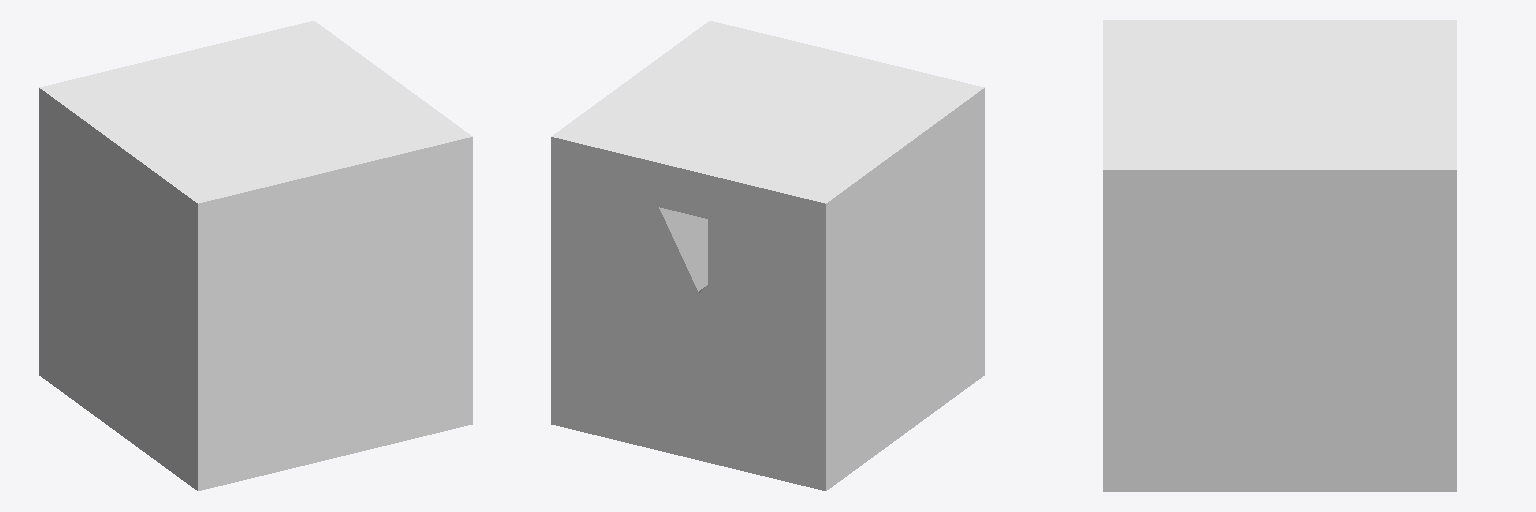
URDF robot description (Key_cube_bottle):
<?xml version="1.0" ?>
<robot name="Key_cube_bottle">
  <link name="baseLink">
    <contact>
    	<friction_anchor/>
    	   <lateral_friction value="1.0"/>
    </contact>
    <inertial>
      <origin rpy="0 0 0" xyz="0 0 0"/>
       <!-- mass controls penetration -->
       <mass value=".5"/>
       <inertia ixx="1e-4" ixy="0" ixz="0" iyy="1e-4" iyz="0" izz="1e-4"/>
    </inertial>
    <visual>
      <origin rpy="0 0 0" xyz="0 0 0"/>
      <geometry>
        <mesh filename="Key_cube_bottle.obj"/>
      </geometry>
       <material name="white">
        <color rgba="1 1 1 1"/>
      </material>
    </visual>
    <collision>
      <origin rpy="0 0 0" xyz="0 0 0"/>
      <geometry>
        <mesh filename="Key_cube_bottle.obj"/>
      </geometry>
    </collision>
  </link>
</robot>

--- Render facts (derived) ---
3 views of the same robot in one strip: view 1: azimuth 30°, elevation 25°; view 2: azimuth 150°, elevation 25°; view 3: azimuth 270°, elevation 25° (orthographic).
Robot: Key_cube_bottle — 1 links, 0 joints (none); root link baseLink; default pose: every joint at zero.
Visible links, largest first — view 1: baseLink; view 2: baseLink; view 3: baseLink.
Link boxes in pixels (bbox=[...]): baseLink: bbox=[39, 21, 472, 490]; baseLink: bbox=[551, 21, 984, 490]; baseLink: bbox=[1103, 20, 1456, 491].
Bounding box of the posed robot: 0.08 × 0.08 × 0.08 m (x, y, z).
1 mesh visuals loaded from 1 distinct referenced files (1 OBJ).